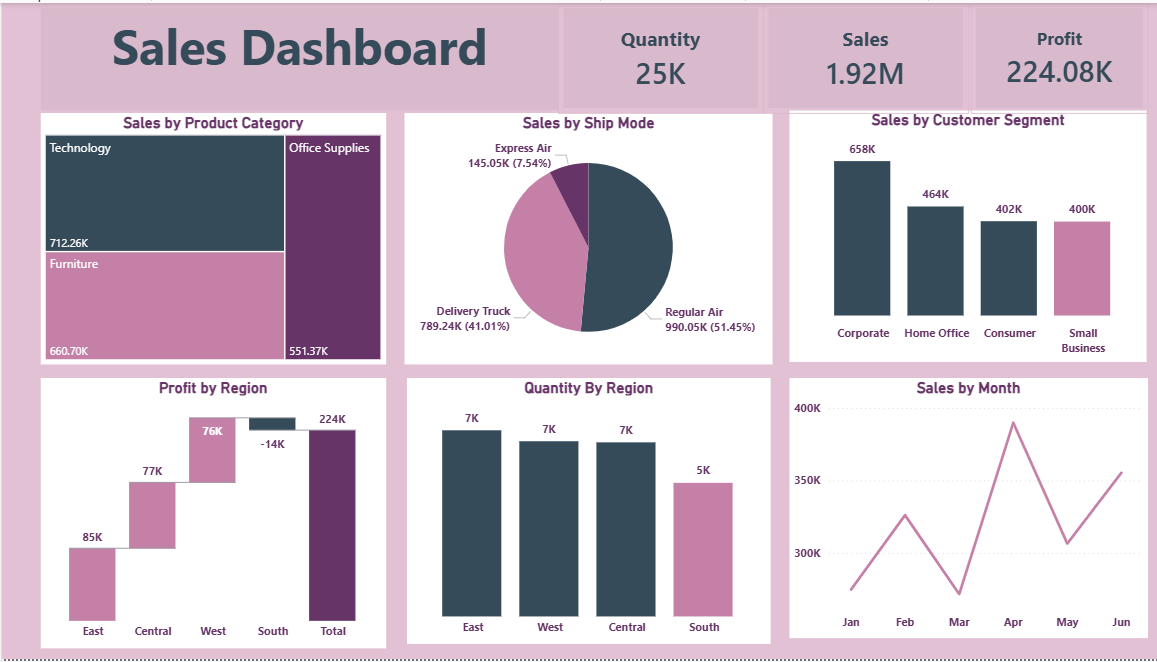

What the dashboard file says about the page in this screenshot:
{"tool":"powerbi","page":{"name":"sales","canvas":[1280,720],"ordinal":0},"visuals":[{"type":"clusteredColumnChart","title":" Sales by Customer Segment","fields":{"Category":["Orders.Customer Segment"],"Y":["Sum(Orders.Sales)"]},"box":[865,118.2,392.1,276.3],"z":0},{"type":"pieChart","title":" Sales by Ship Mode","fields":{"Category":["Orders.Ship Mode"],"Y":["Sum(Orders.Sales)"]},"box":[441.6,120.6,404.2,276.3],"z":1000},{"type":"waterfallChart","title":"Profit by Region","fields":{"Y":["Sum(Orders.Profit)"],"Category":["Orders.Region"]},"box":[42.2,411.4,378.8,296.8],"z":2000},{"type":"clusteredColumnChart","title":"Quantity By Region","fields":{"Category":["Orders.Region"],"Y":["Sum(Orders.Quantity ordered new)"]},"box":[444,411.4,399.3,292],"z":3000},{"type":"lineChart","title":" Sales by Month","fields":{"Y":["Sum(Orders.Sales)"],"Category":["date.month"]},"box":[865,411.4,393.3,285.9],"z":4000},{"type":"treemap","title":"Sales by Product Category","fields":{"Values":["Sum(Orders.Sales)"],"Group":["Orders.Product Category"]},"box":[42.2,120.6,378.8,276.3],"z":5000},{"type":"cardVisual","fields":{"Data":["Sum(Orders.Profit)"]},"box":[1062.9,0,195.4,121.9],"z":6000},{"type":"cardVisual","fields":{"Data":["Sum(Orders.Sales)"]},"box":[836.1,0,225.6,121.9],"z":7000},{"type":"cardVisual","fields":{"Data":["Sum(Orders.Quantity ordered new)"]},"box":[610.5,0,225.6,121.9],"z":8000},{"type":"textbox","title":"Sales  Dashboard","box":[42.2,6,568.2,112.2],"z":9000}]}

Visuals, with their boxes in screenshot pixels (x1, y1, x2, y2), scaled from the page's 1280x720 canvas onto the 1157x662 screenshot:
" Sales by Customer Segment" clusteredColumnChart: 782/109/1136/363
" Sales by Ship Mode" pieChart: 399/111/765/365
"Profit by Region" waterfallChart: 38/378/381/651
"Quantity By Region" clusteredColumnChart: 401/378/762/647
" Sales by Month" lineChart: 782/378/1137/641
"Sales by Product Category" treemap: 38/111/381/365
cardVisual - Sum(Orders.Profit): 961/0/1137/112
cardVisual - Sum(Orders.Sales): 756/0/960/112
cardVisual - Sum(Orders.Quantity ordered new): 552/0/756/112
"Sales  Dashboard" textbox: 38/6/552/109
